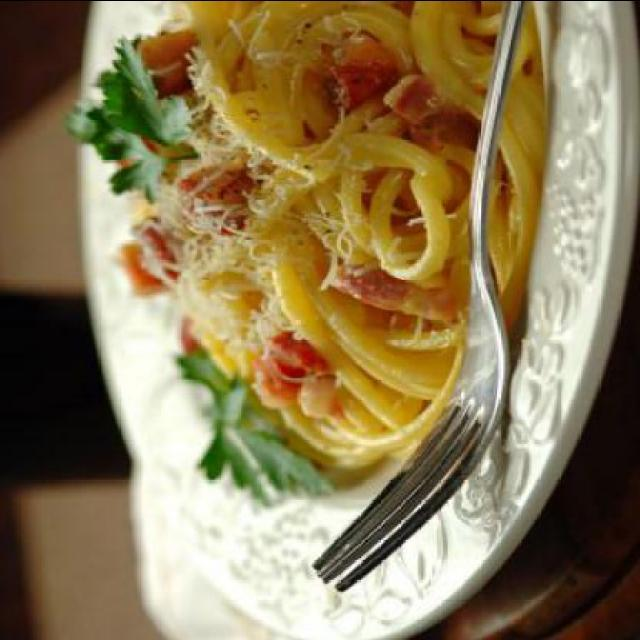Pasta with carbonara sauce: (48, 1, 590, 524)
